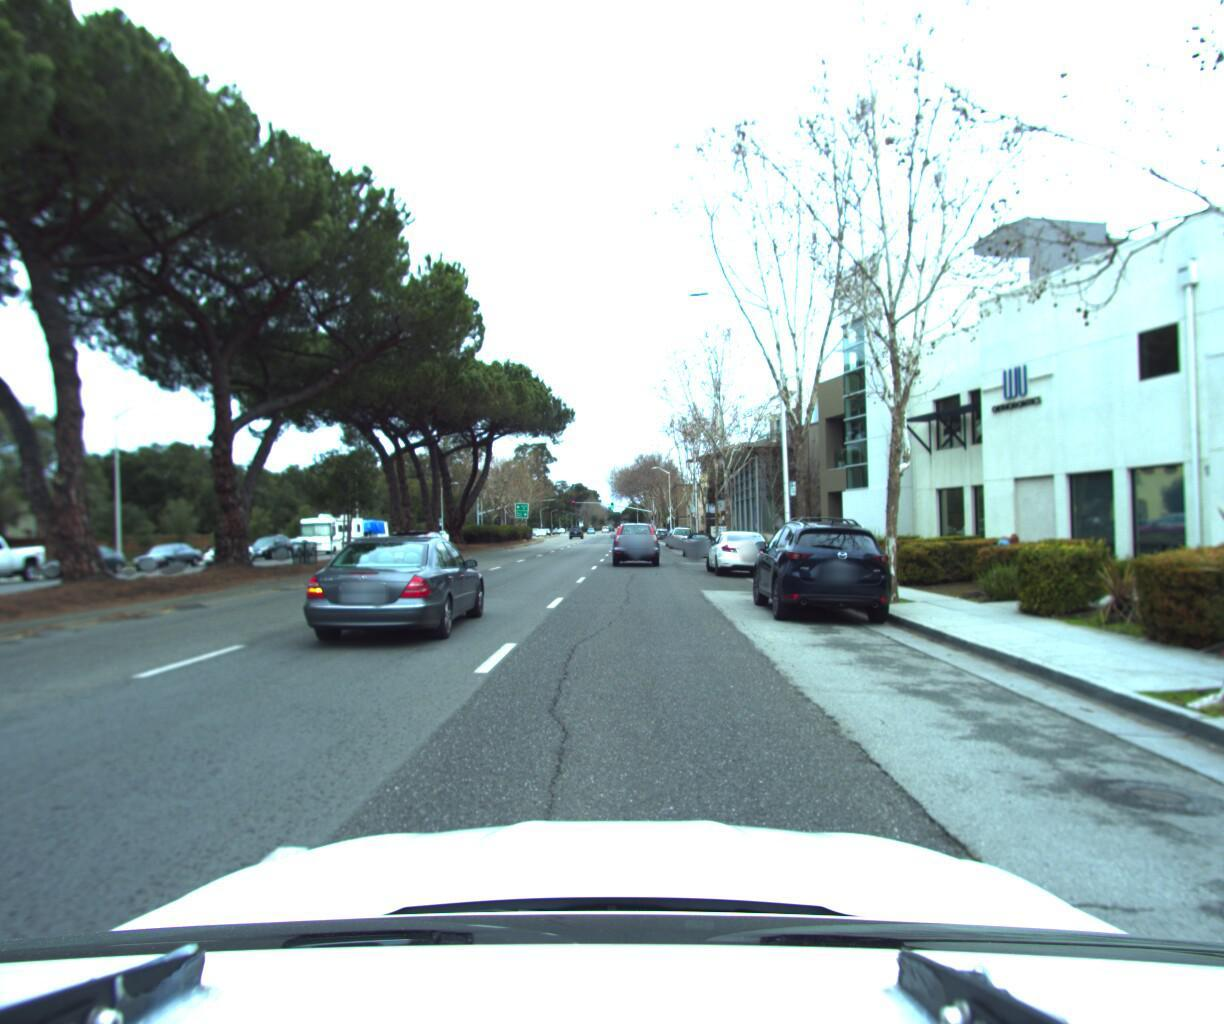car: (278, 529, 485, 651), (743, 506, 898, 625), (372, 526, 461, 578), (699, 521, 774, 573), (35, 545, 133, 580), (608, 514, 662, 562), (125, 541, 203, 573), (193, 538, 258, 567), (674, 519, 719, 554), (241, 538, 294, 564), (662, 521, 694, 545)
other_vehicle: (288, 506, 373, 558), (338, 513, 397, 550)
